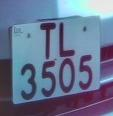0: (58, 55, 78, 97)
3: (17, 57, 40, 105)
5: (37, 59, 60, 100), (77, 52, 95, 94)
L: (56, 18, 78, 60)
T: (35, 17, 61, 62)
